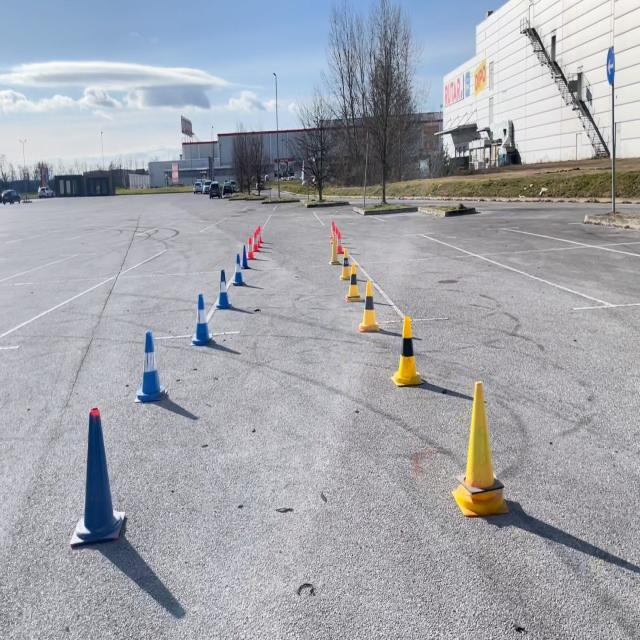blue_cone: (69, 409, 126, 548), (133, 330, 168, 401), (190, 293, 216, 347), (214, 270, 232, 309), (231, 253, 245, 286), (241, 245, 250, 268)
orange_cone: (247, 237, 256, 259), (252, 231, 260, 251), (337, 232, 344, 254), (330, 225, 336, 244), (256, 228, 262, 247), (329, 221, 334, 238), (258, 225, 263, 242), (335, 227, 338, 247)
yellow_cone: (450, 381, 510, 518), (392, 316, 424, 387), (359, 280, 380, 332), (345, 262, 362, 303), (340, 248, 351, 282), (330, 235, 340, 266)
